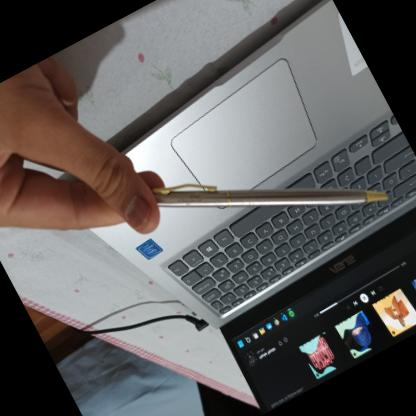pencil: (140, 177, 391, 206)
